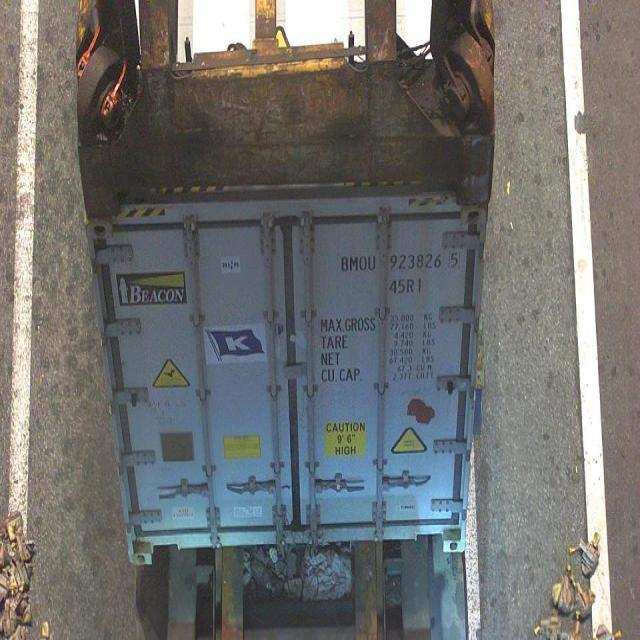ISO: (392, 276, 422, 294)
container_number: (338, 246, 459, 272)
